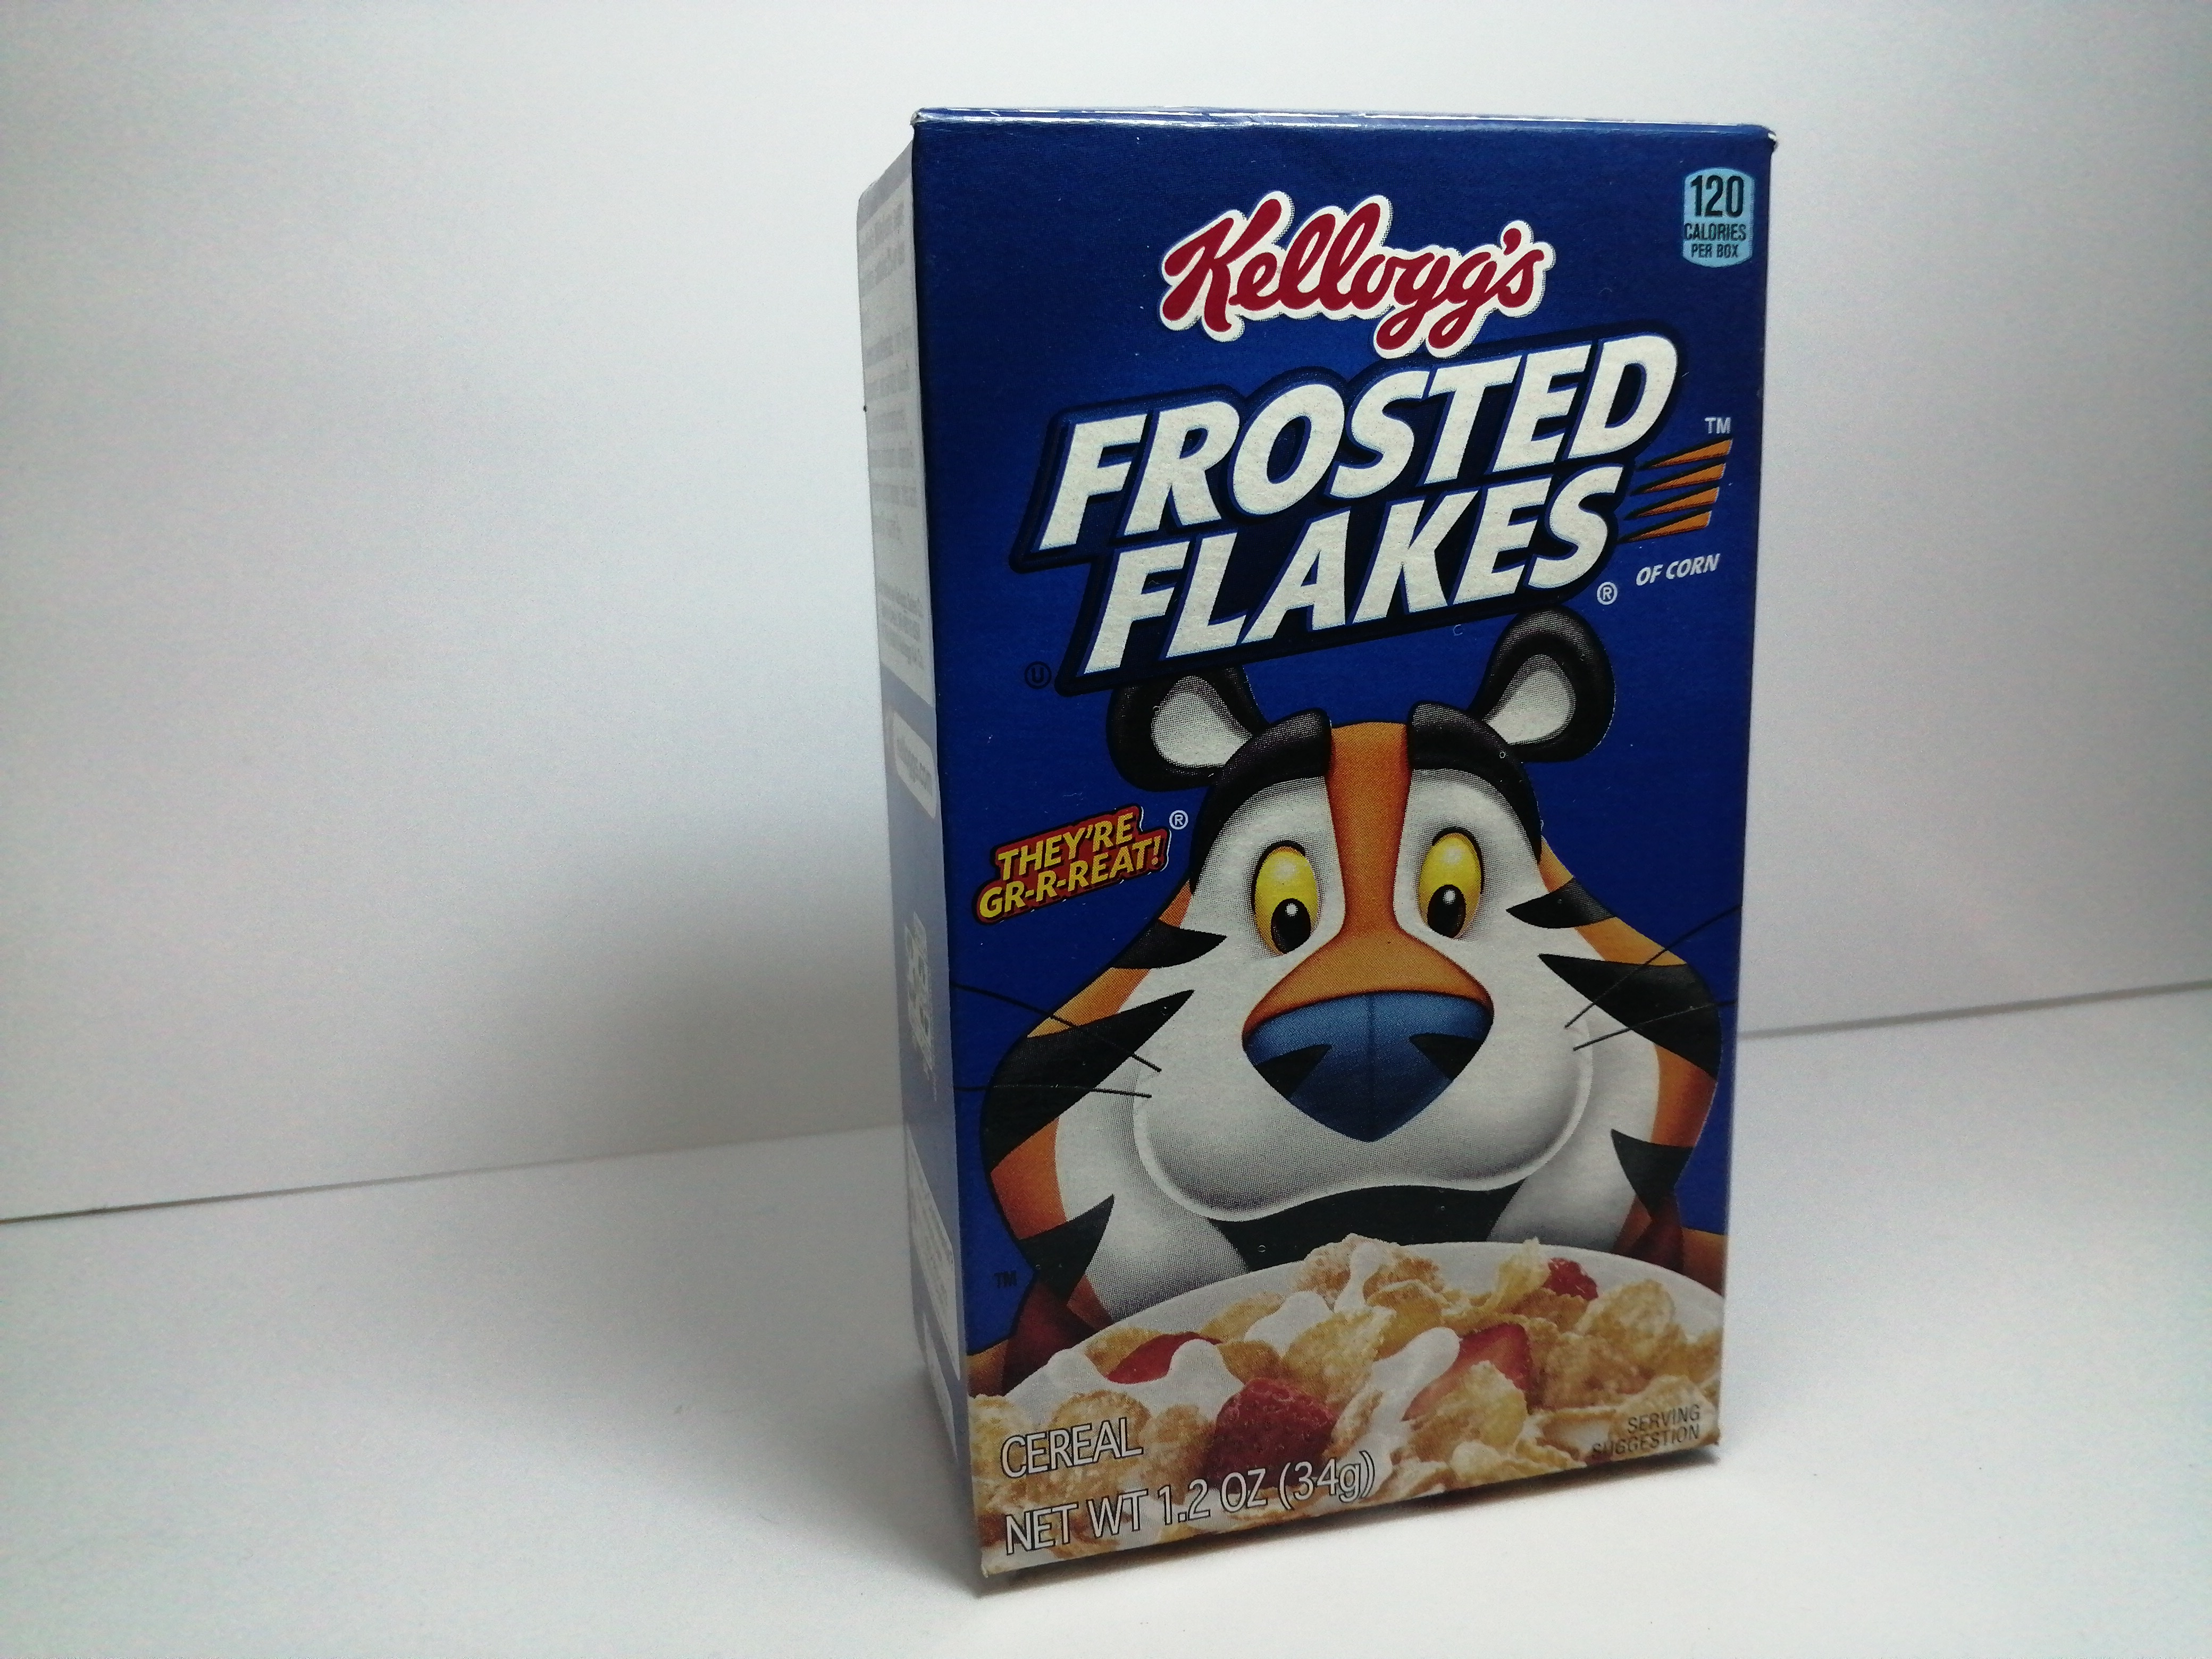cereal azucarado: (820, 59, 1806, 1596)
